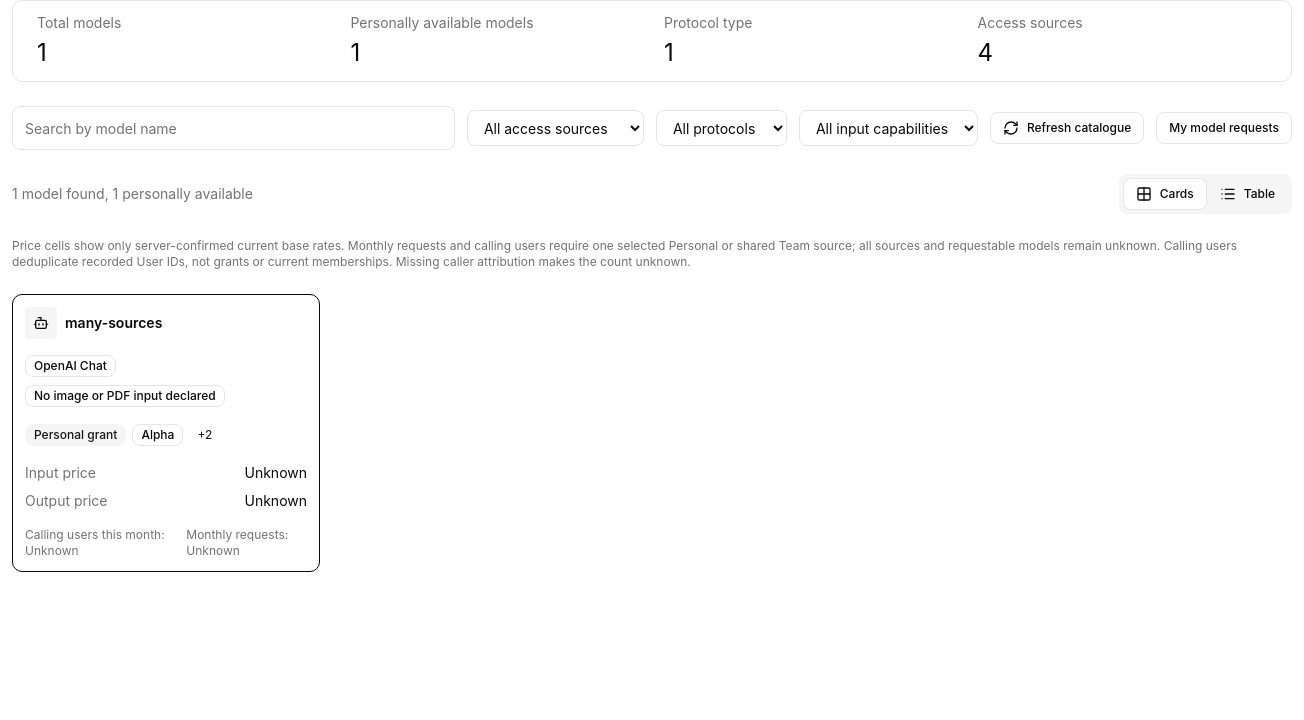
Authorized member model catalogue › shows two source chips and expands all actual sources without opening API access or nesting buttons
Check: the list item with aria-label "Open API access for many-sources" is shown, box [12,294,320,572]
Check: the list item with aria-label "Open API access for many-sources" shows "Personal grant", box [34,427,117,442]
Click the button "+2" at (205, 435), box [189,423,220,447]
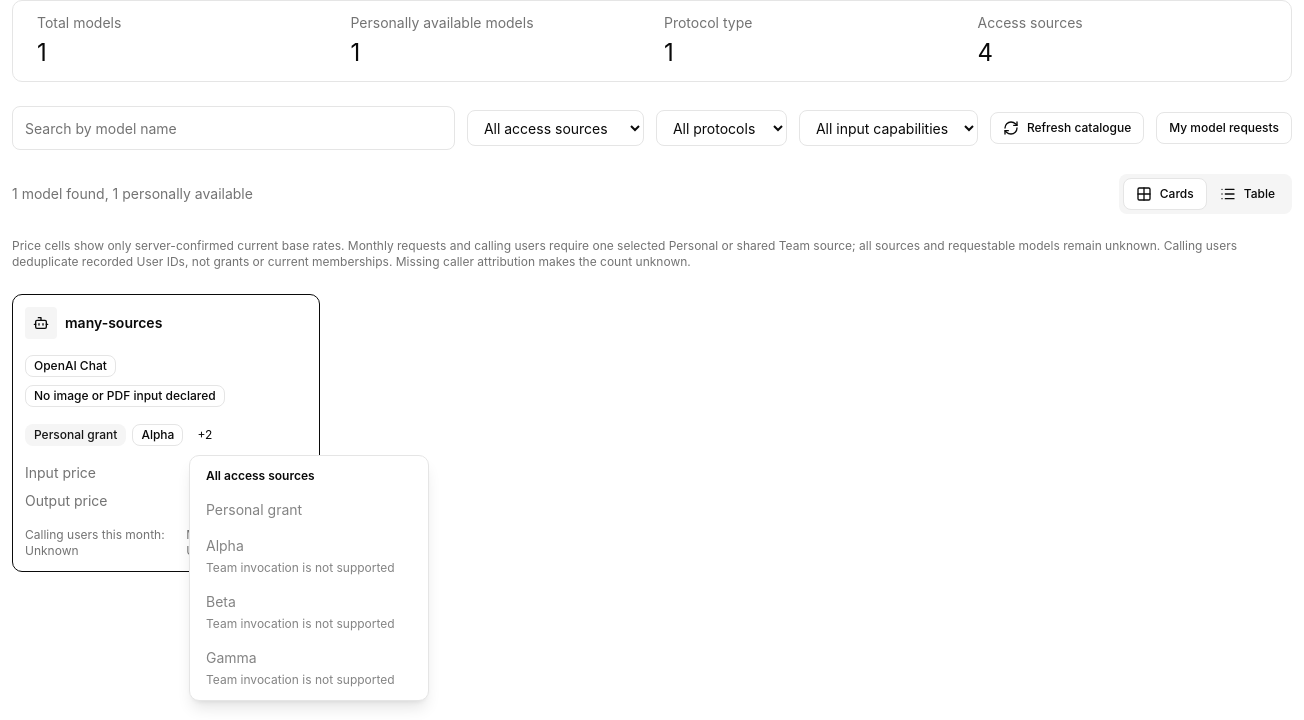
Check: the menu is shown
Check: the menu shows "Personal grant", box [206,501,302,518]
Check: the menu shows "Alpha", box [206,537,244,554]
Press Escape in the menu, box [189,455,429,701]
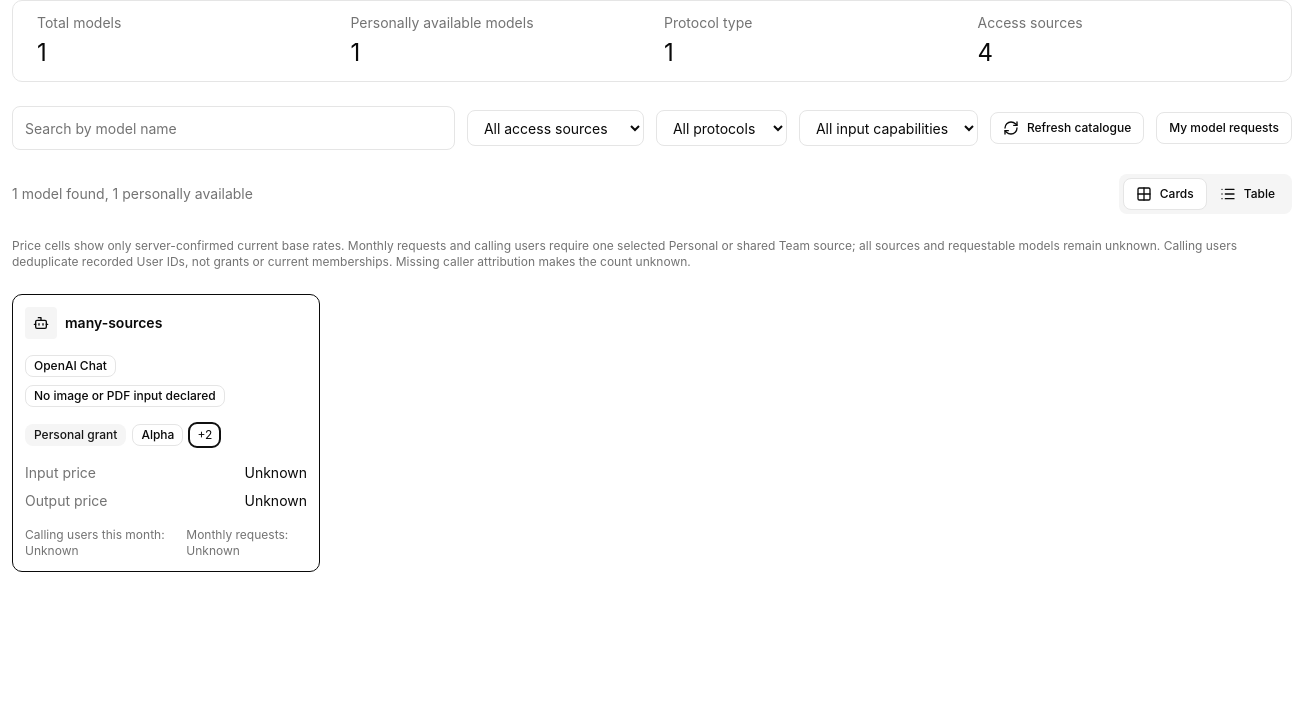
Check: the menu is gone
